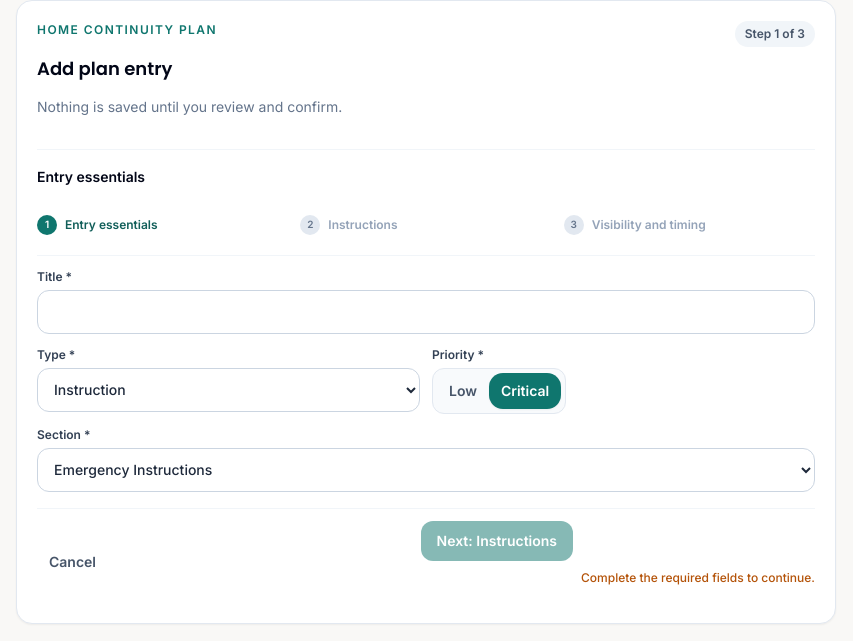
continuity entry capture uses compact controls and defers consent to the final step
Expected: the dropdown labelled "Type" shows "Instruction", 37,368 -> 420,412
Expected: the dropdown labelled "Section" shows "Emergency Instructions", 37,448 -> 815,492
Step 1. Type "Water shutoff" into the field labelled "Title" → [426, 312], box 37,290 -> 815,334
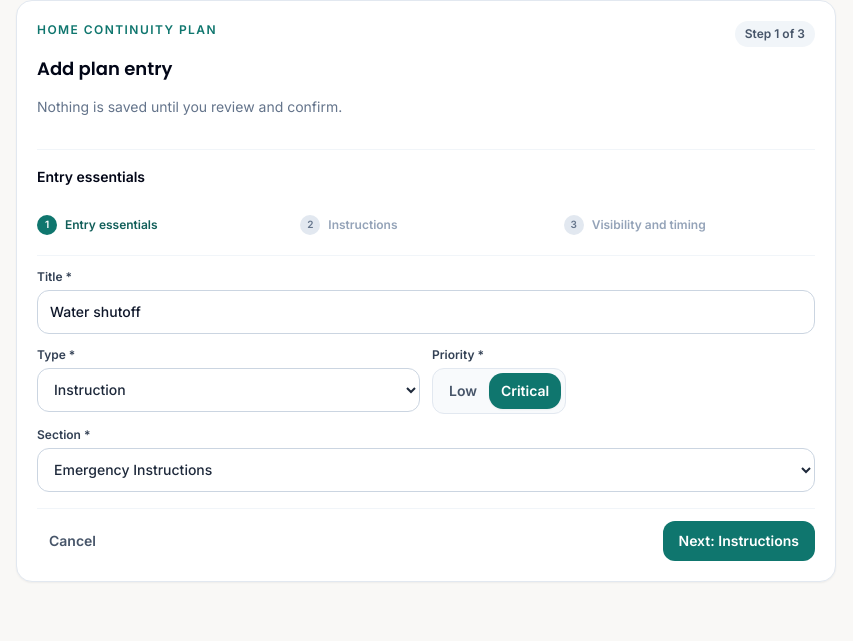
Step 2. Click the button "Next: Instructions" → [739, 541], box 662,521 -> 815,561
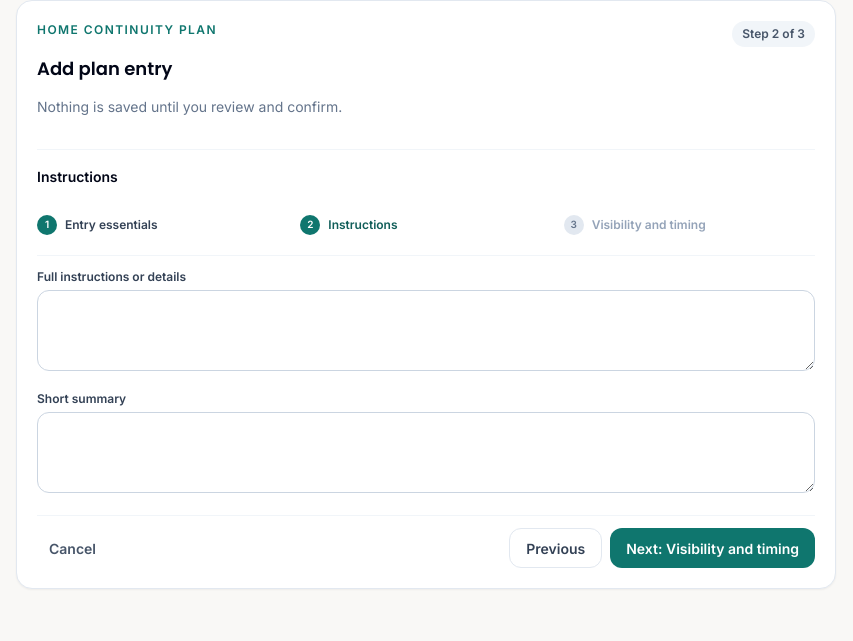
Step 3. Click the button "Next: Visibility and timing" → [713, 548], box 610,528 -> 815,568
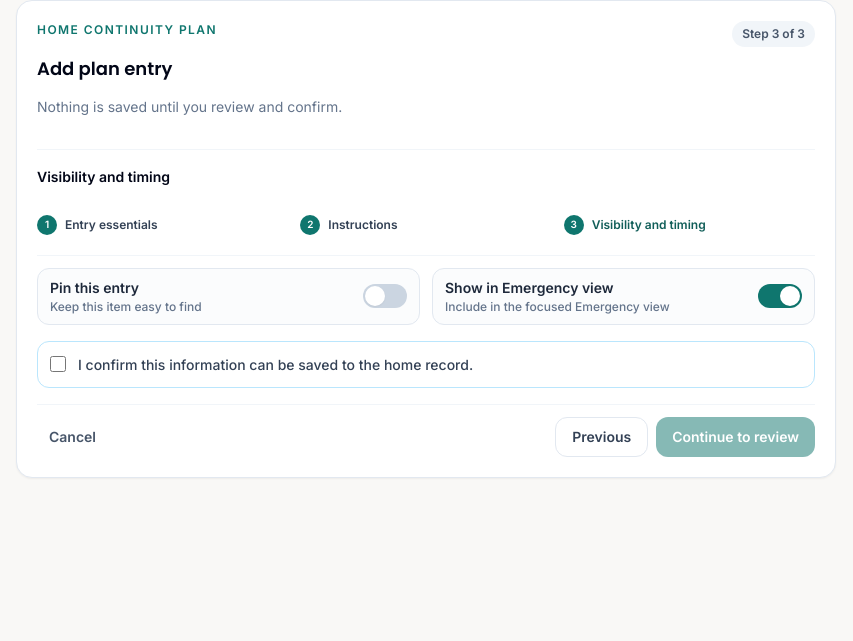
Expected: the text "I confirm this information can be saved to the home record." is shown, 78,354 -> 473,375
Expected: the checkbox labelled "Pin this entry Keep this item easy to find" is not checked, 37,268 -> 420,325
Expected: the checkbox labelled "Show in Emergency view Include in the focused Emergency view" is checked, 432,268 -> 815,325
